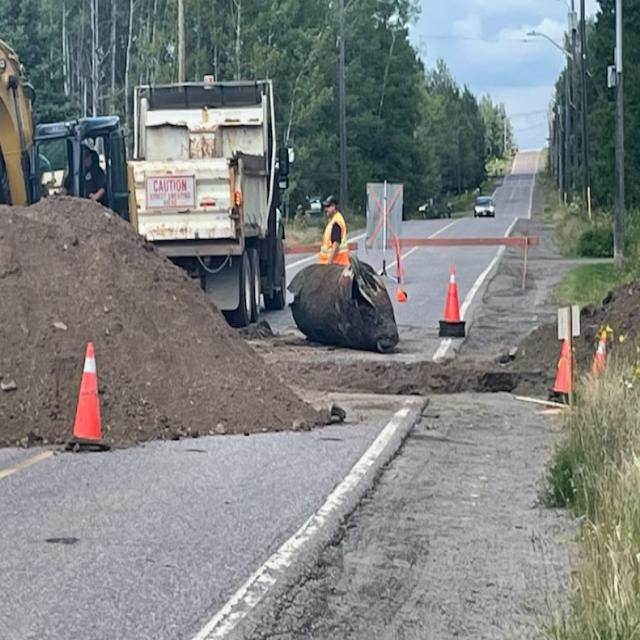cone: (68, 334, 111, 458), (545, 334, 580, 412), (436, 268, 466, 332), (586, 324, 608, 398)
